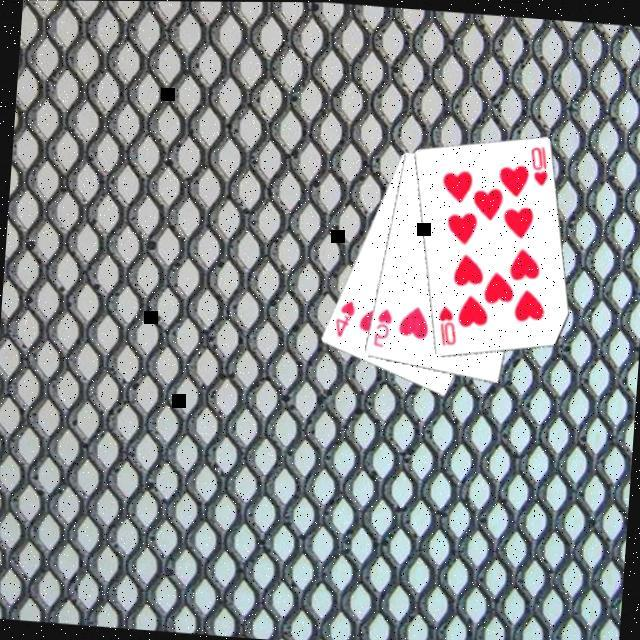10H: (433, 304, 461, 351), (526, 144, 552, 190)
4H: (331, 296, 358, 342)
5H: (370, 306, 394, 352)
